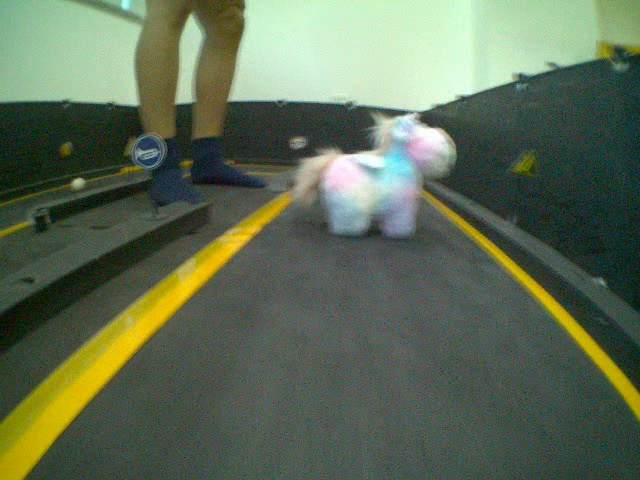unicorn: (290, 106, 458, 244)
